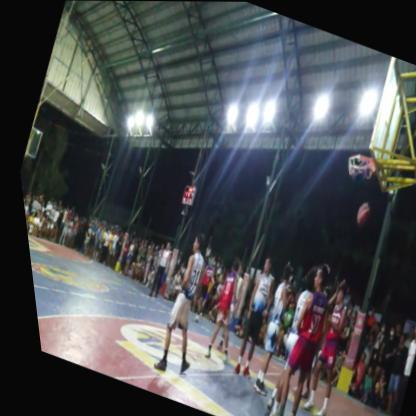basketball: (343, 196, 370, 232)
rim: (332, 140, 381, 193)
